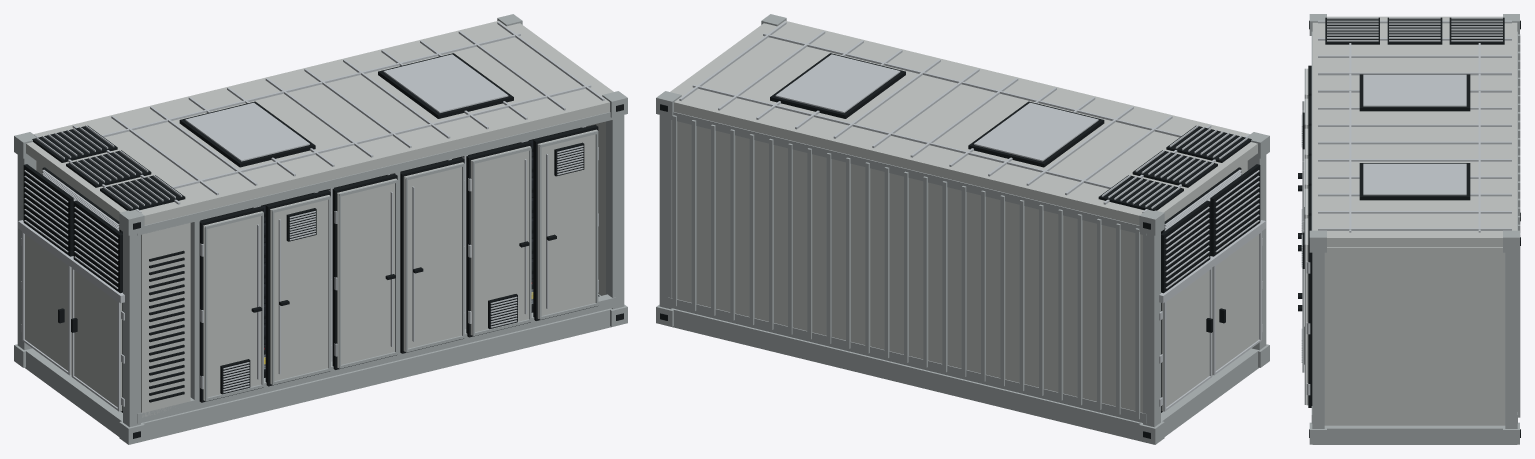
The model's file is ess-container.glb.
3 renders of one model, left to right at view 1: azimuth 30°, elevation 25°; view 2: azimuth 150°, elevation 25°; view 3: azimuth 270°, elevation 25°, orthographic. The views are drawn at different scales.
Visible parts, largest first — view 1: Side_Door_Panel (×6), Roof, Floor_Structure, Solid_Panel (×2), Roof_Relief_Panel (×2), Recess (×6), Fixed_Louver_Panel, Door_Gasket (×6), Top_Rail, Chiller_Top_Grille (×3), Corner_Post_2, Bottom_Rail (+9 smaller); view 2: Rear_Side_Wall, Roof, Floor_Structure, Solid_Panel (×2), Roof_Relief_Panel (×2), Recess (×2), Bottom_Rail, Chiller_Top_Grille (×3), Top_Rail, Corner_Post_1, Roof_Longitudinal_Seam (×2), Corner_Post_3 (+28 smaller); view 3: End_Wall, Roof, Roof_Relief_Panel (×2), Roof_Transverse_Seam (×11), Floor_Structure, Chiller_Top_Grille (×3), Corner_Post_2, Corner_Post_3, Roof_Relief_Frame (×2), Corner_Casting (×4), Roof_Longitudinal_Seam (×2), Door_Gasket (+5 smaller).
Part boxes in pixels (<box>): Side_Door_Panel (×6): <box>203,129,597,400</box>; Roof: <box>26,20,613,225</box>; Floor_Structure: <box>25,294,611,442</box>; Solid_Panel (×2): <box>25,234,122,411</box>; Roof_Relief_Panel (×2): <box>185,54,508,161</box>; Recess (×6): <box>23,142,584,394</box>; Fixed_Louver_Panel: <box>141,223,190,417</box>; Door_Gasket (×6): <box>199,124,598,402</box>; Top_Rail: <box>137,112,616,235</box>; Chiller_Top_Grille (×3): <box>32,125,185,210</box>; Corner_Post_2: <box>606,115,624,309</box>; Bottom_Rail: <box>137,294,616,423</box>; Rear_Side_Wall: <box>671,120,1142,412</box>; Roof: <box>670,20,1257,225</box>; Floor_Structure: <box>672,308,1258,442</box>; Solid_Panel (×2): <box>1161,234,1258,411</box>; Roof_Relief_Panel (×2): <box>775,54,1098,161</box>; Recess (×2): <box>1161,164,1260,293</box>; Bottom_Rail: <box>667,297,1146,423</box>; Chiller_Top_Grille (×3): <box>1098,125,1251,210</box>; Top_Rail: <box>667,112,1146,235</box>; Corner_Post_1: <box>1143,232,1160,427</box>; Roof_Longitudinal_Seam (×2): <box>692,33,1182,188</box>; Corner_Post_3: <box>659,115,672,309</box>; End_Wall: <box>1324,247,1505,425</box>; Roof: <box>1312,16,1517,246</box>; Roof_Relief_Panel (×2): <box>1363,74,1466,195</box>; Roof_Transverse_Seam (×11): <box>1318,55,1511,230</box>; Floor_Structure: <box>1313,425,1516,444</box>; Chiller_Top_Grille (×3): <box>1325,17,1504,44</box>; Corner_Post_2: <box>1312,252,1324,428</box>; Corner_Post_3: <box>1505,252,1517,428</box>; Roof_Relief_Frame (×2): <box>1359,74,1470,200</box>; Corner_Casting (×4): <box>1309,230,1519,444</box>; Roof_Longitudinal_Seam (×2): <box>1349,43,1480,232</box>; Door_Gasket: <box>1308,215,1312,407</box>.
Bounding box in the file's own units: 6.55 × 2.85 × 2.72.
18 materials, 4 textured.
